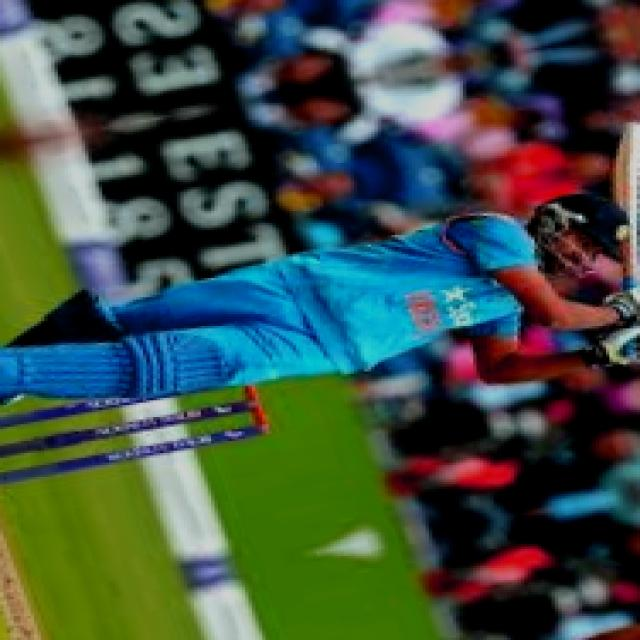toe: (616, 119, 640, 140)
